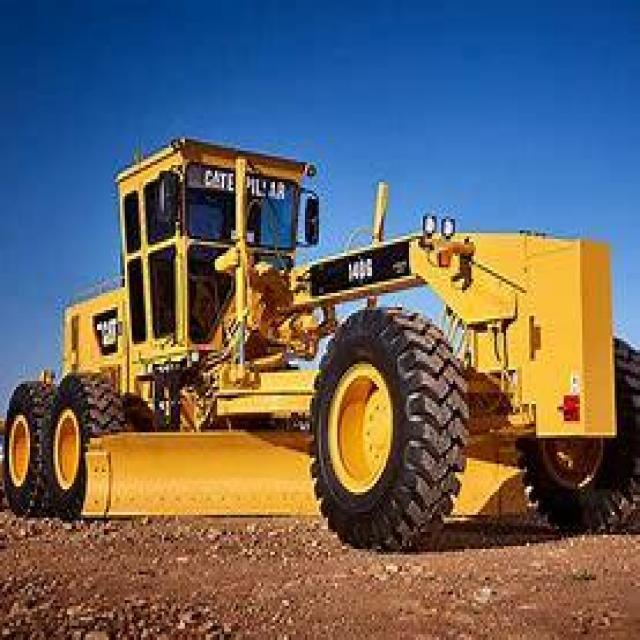Grader: (0, 116, 638, 574)
